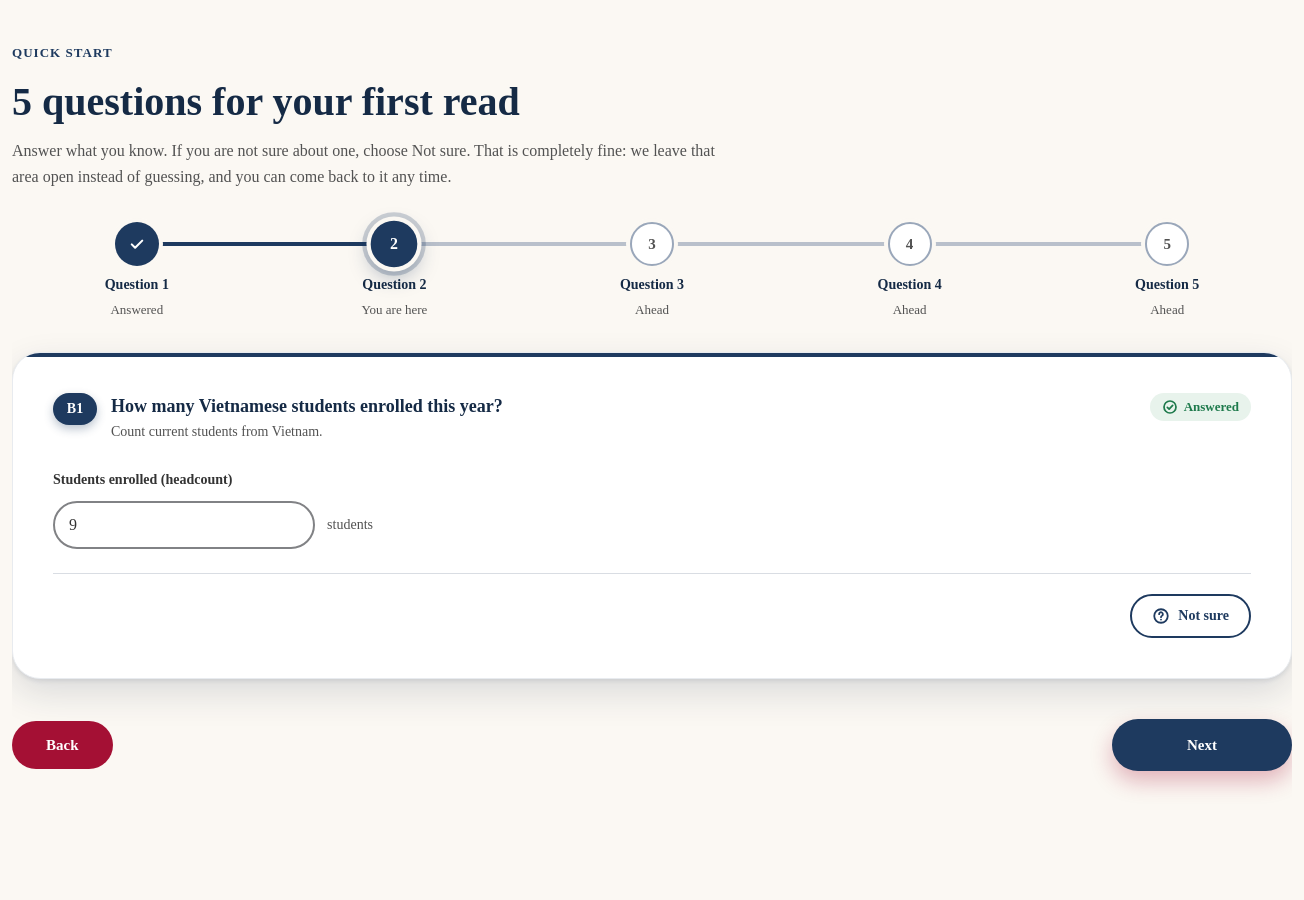
Scenario: QuickStartFlow › clearing a number returns the step to To do and disables Next
Expected: the text "Answered" in the row of "B1" is shown, [1184,399,1239,414]
Expected: the button "Next" is enabled, [1112,719,1292,771]
Clear the field at [184, 525], box [53,501,315,549]
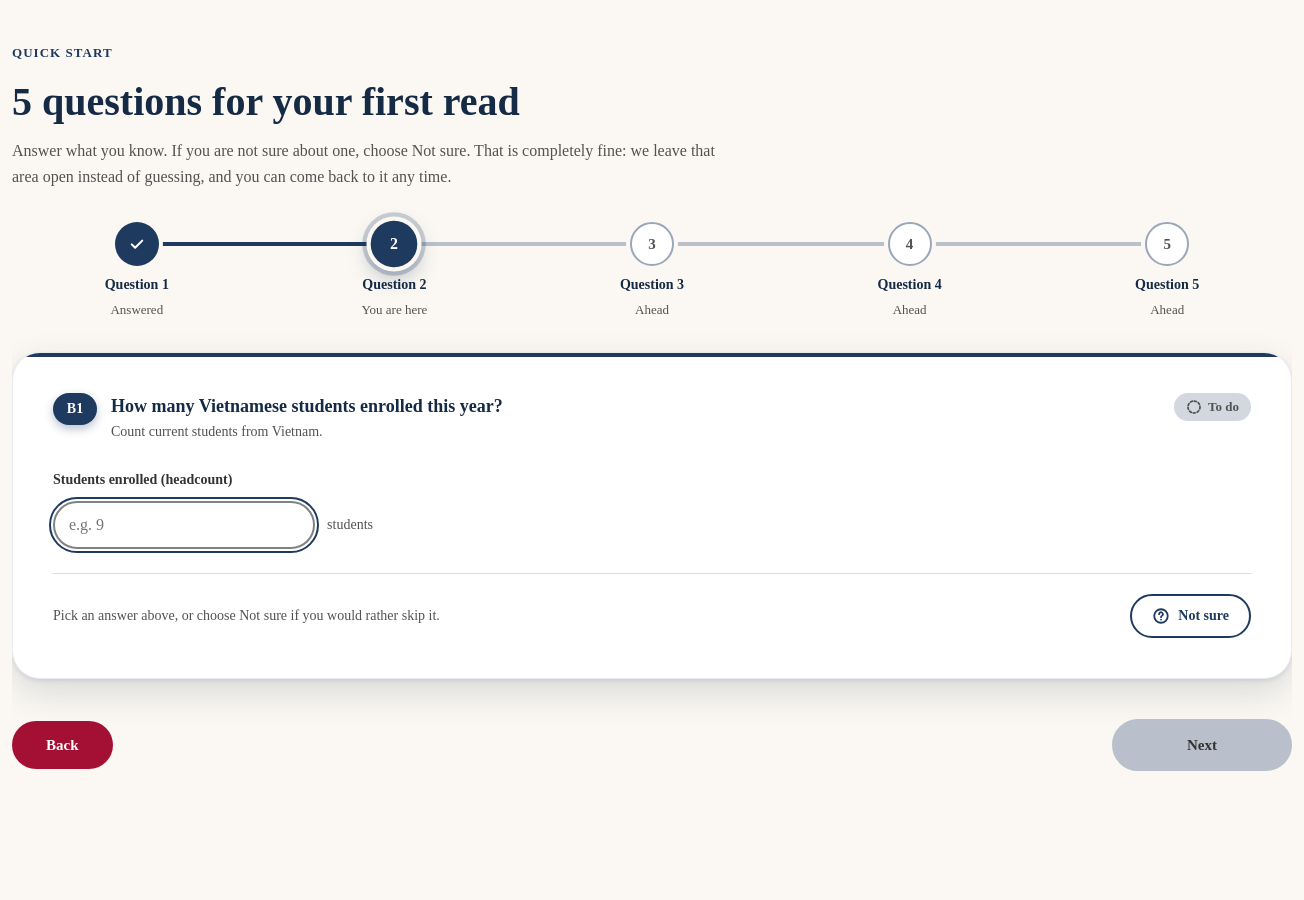
Expected: the text "To do" is shown, [1208,397,1239,417]
Expected: the button "Next" is disabled, [1112,719,1292,771]
